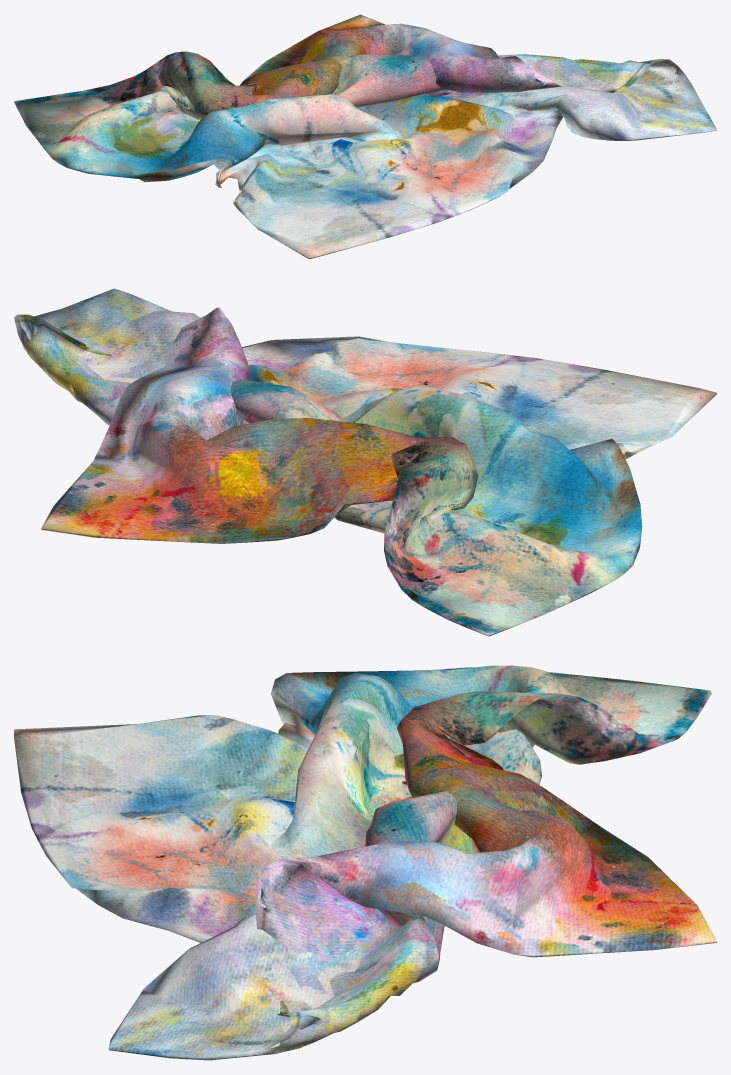
Rendered from Rag.FBX.
The picture shows the model from 3 angles, top to bottom: view 1: azimuth 30°, elevation 25°; view 2: azimuth 150°, elevation 25°; view 3: azimuth 270°, elevation 25°; orthographic projection. The views are drawn at different scales.
Visible parts, largest first — view 1: rag; view 2: rag; view 3: rag.
Part boxes in pixels (x1=…): rag: x1=14, y1=14, x2=716, y2=259; rag: x1=14, y1=288, x2=716, y2=636; rag: x1=14, y1=665, x2=716, y2=1060.
Size of the model in its own units: 40.92 by 4.53 by 30.71.
1 material, 1 textured.
